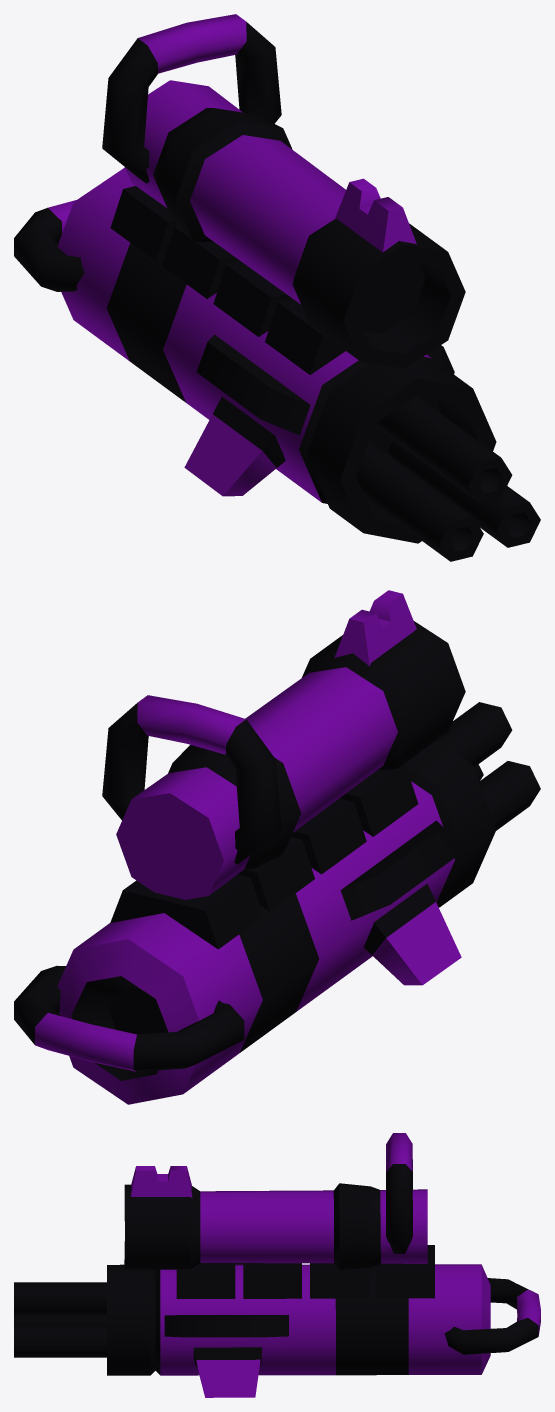
File: 01_player_G_4_W.FBX
The picture shows the model from 3 angles, top to bottom: view 1: azimuth 30°, elevation 25°; view 2: azimuth 150°, elevation 25°; view 3: azimuth 270°, elevation 25°; orthographic projection. The views are drawn at different scales.
Parts seen in each view (by area): view 1: 01_player_G_4; view 2: 01_player_G_4; view 3: 01_player_G_4.
Part boxes in pixels (x1,y1,x2,y2): 01_player_G_4: (14,14,540,561); 01_player_G_4: (14,590,540,1104); 01_player_G_4: (14,1133,540,1397).
Bounding box in the file's own units: 44.91 × 63.2 × 133.
